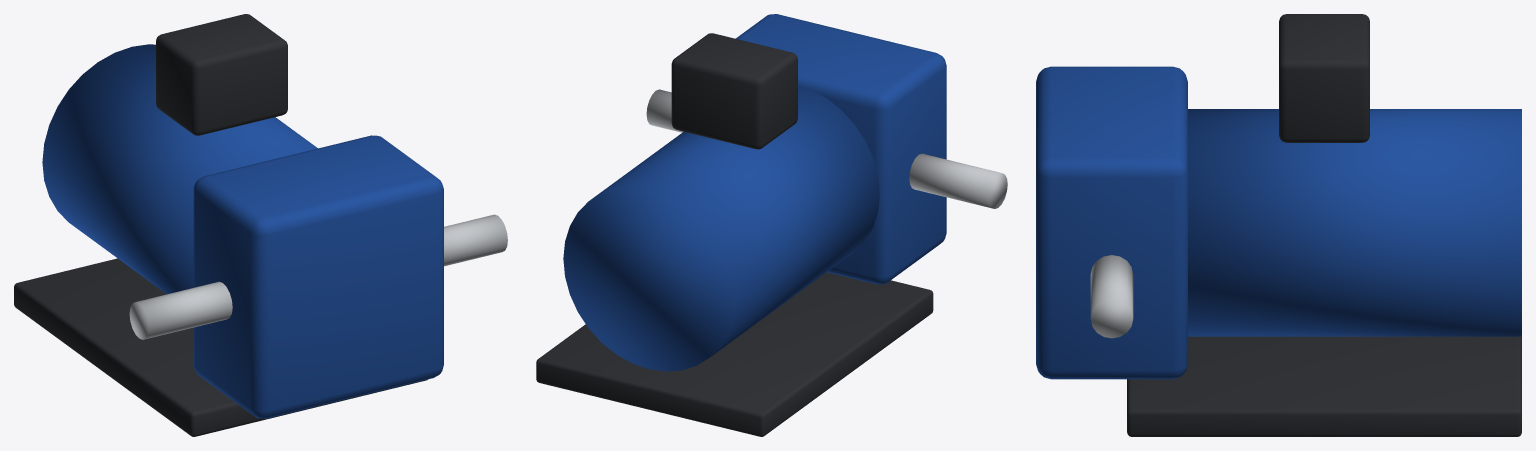
Rendered from bl_booster_pump.glb.
3 views of the same model, side by side, from view 1: azimuth 30°, elevation 25°; view 2: azimuth 150°, elevation 25°; view 3: azimuth 270°, elevation 25° (orthographic). The views are drawn at different scales.
Parts seen in each view (by area): view 1: head, motor, foot, ctrl, pipe, pipe.001; view 2: motor, foot, head, ctrl, pipe, pipe.001; view 3: motor, head, foot, ctrl, pipe.001.
Part boxes in pixels (x1=…): head: x1=193, y1=135, x2=443, y2=418; motor: x1=42, y1=44, x2=317, y2=294; foot: x1=14, y1=258, x2=427, y2=436; ctrl: x1=156, y1=14, x2=287, y2=135; pipe: x1=129, y1=281, x2=232, y2=339; pipe.001: x1=444, y1=214, x2=507, y2=266; motor: x1=563, y1=85, x2=879, y2=371; foot: x1=536, y1=272, x2=933, y2=436; head: x1=736, y1=14, x2=946, y2=284; ctrl: x1=671, y1=33, x2=797, y2=149; pipe: x1=909, y1=153, x2=1007, y2=208; pipe.001: x1=646, y1=89, x2=683, y2=132; motor: x1=1188, y1=109, x2=1521, y2=336; head: x1=1036, y1=66, x2=1187, y2=379; foot: x1=1127, y1=336, x2=1521, y2=436; ctrl: x1=1279, y1=14, x2=1369, y2=142; pipe.001: x1=1090, y1=255, x2=1133, y2=338.
Bounding box in the file's own units: 0.3 × 0.245 × 0.32.
